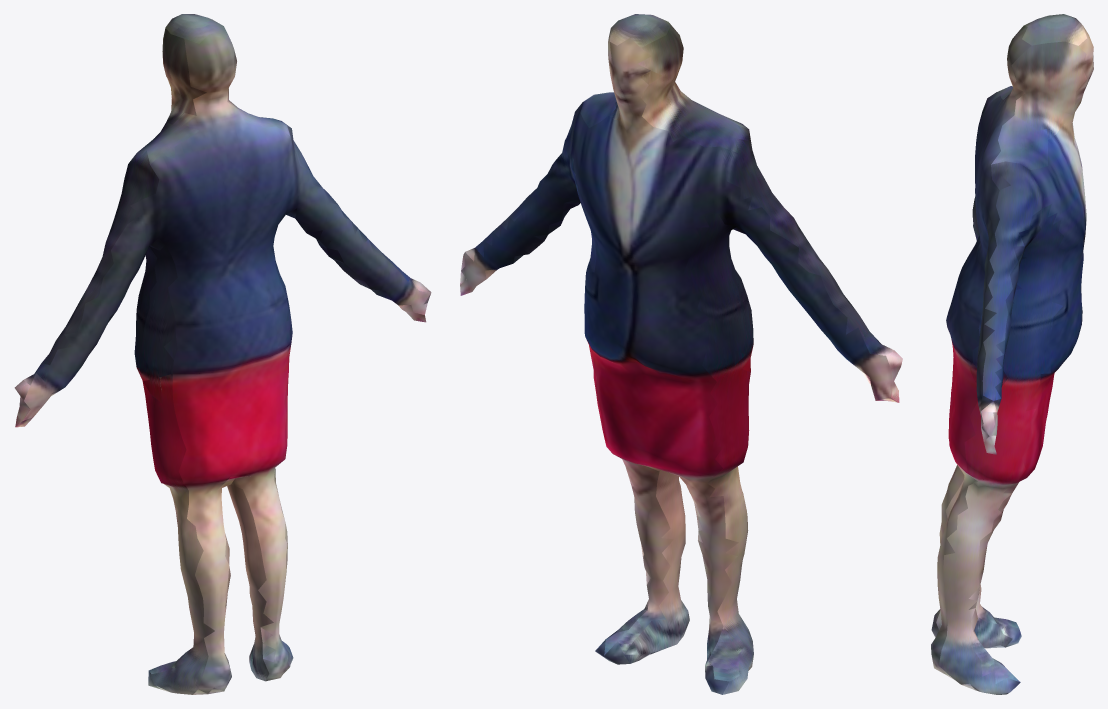
3 renders of one model, left to right at view 1: azimuth 30°, elevation 25°; view 2: azimuth 150°, elevation 25°; view 3: azimuth 270°, elevation 25°, orthographic. The views are drawn at different scales.
Visible parts, largest first — view 1: world; view 2: world; view 3: world.
Boxes of the visible parts, x1,y1,x2,y2 form: world: (14,14,431,694); world: (460,14,902,694); world: (931,14,1093,694).
Size of the model in its own units: 0.6872 by 1.01 by 0.2285.
Materials: 1 (1 with a texture image).
